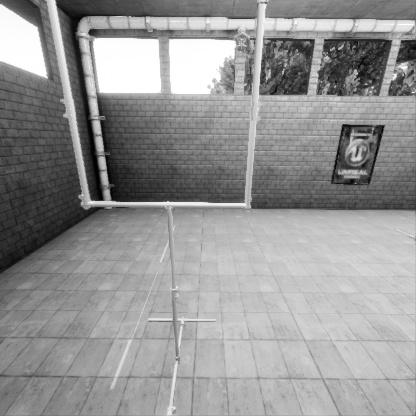gate: (39, 212, 288, 416)
